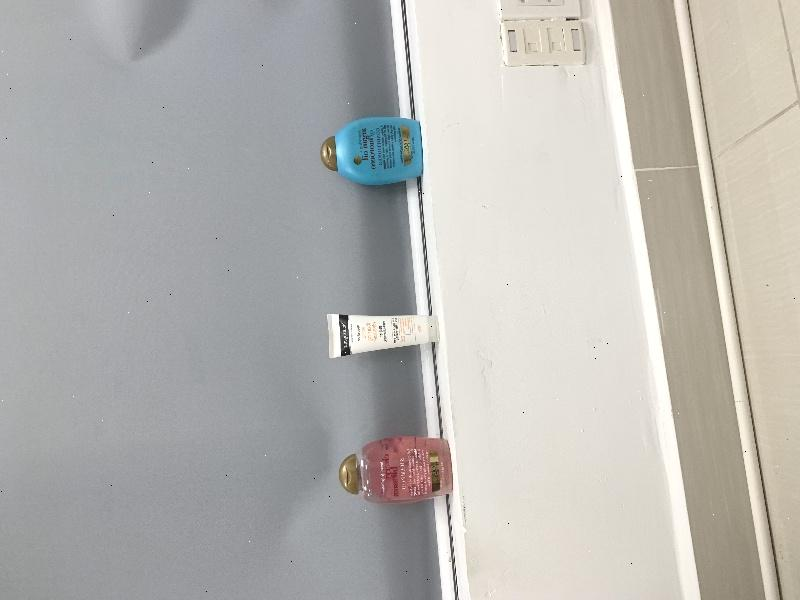AcneFoamingCleanser: (327, 314, 439, 359)
ArganOilOfMorocco_Conditioner: (320, 117, 423, 186)
CherryBlossom_Shampoo: (340, 436, 453, 505)
